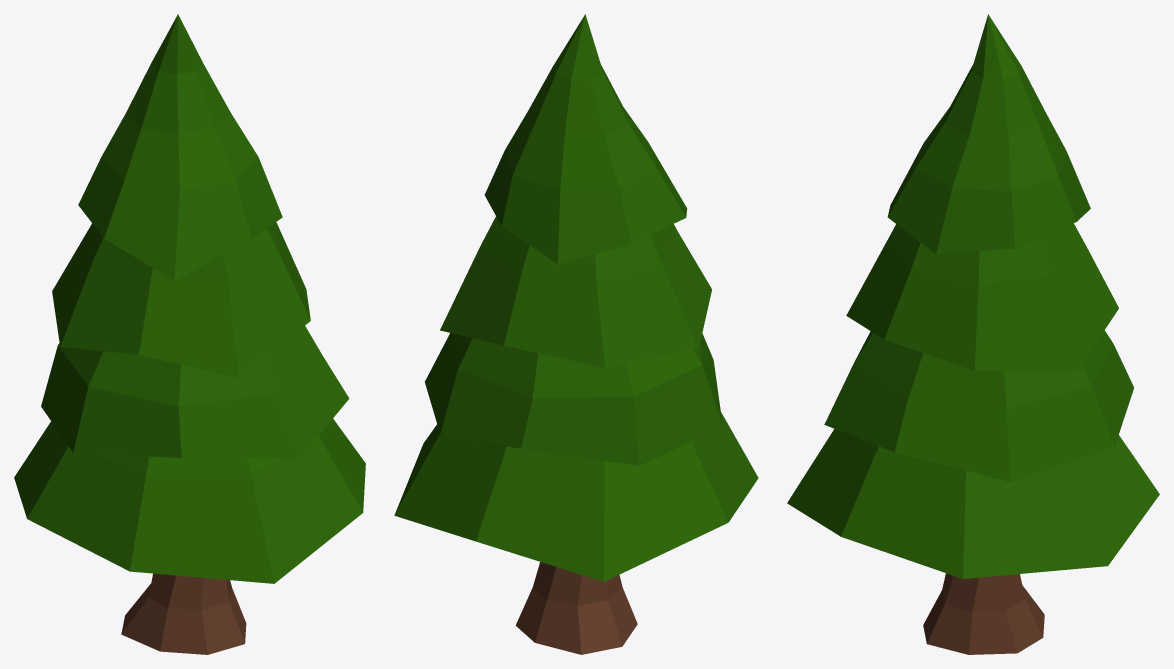
Rendered from pine_01.fbx.
3 views of the same model, side by side, from view 1: azimuth 30°, elevation 25°; view 2: azimuth 150°, elevation 25°; view 3: azimuth 270°, elevation 25° (orthographic).
Parts seen in each view (by area): view 1: Pine_01; view 2: Pine_01; view 3: Pine_01.
Part boxes in pixels (x1,y1,x2,y2): Pine_01: [14, 14, 365, 654]; Pine_01: [394, 14, 758, 654]; Pine_01: [787, 14, 1159, 654].
Size of the model in its own units: 2.52 by 4.61 by 2.54.
